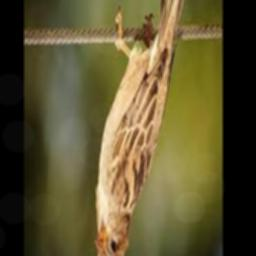Sparrow: (95, 0, 195, 256)
